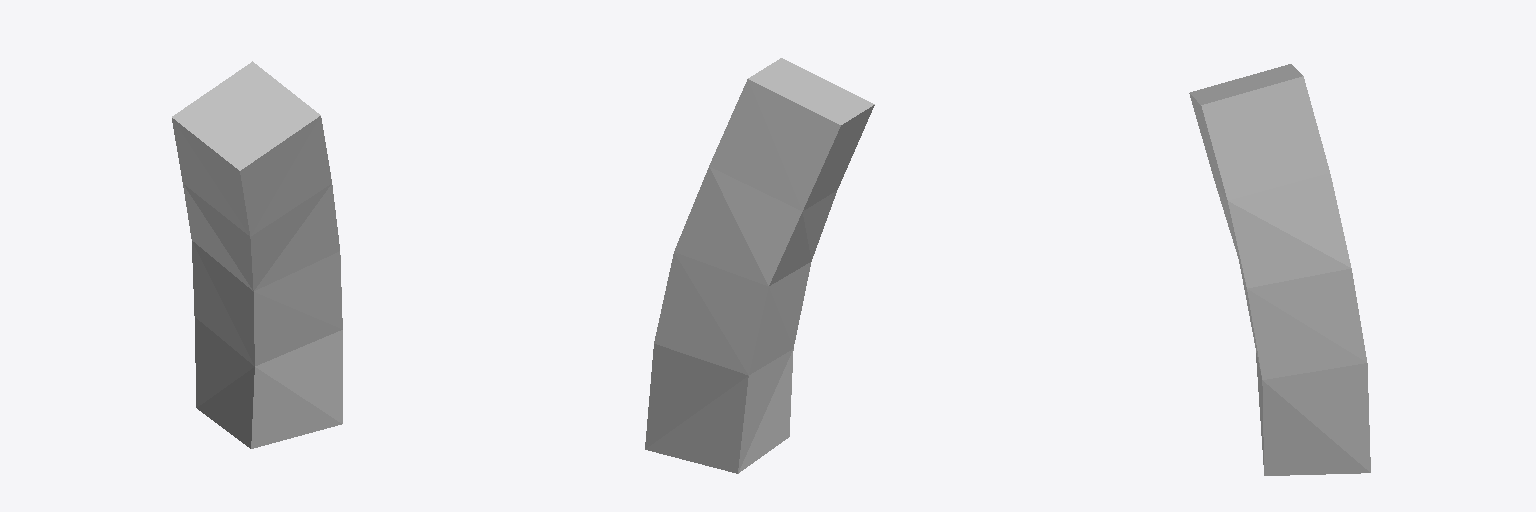
File: wiggle_000008.obj
3 views of the same model, side by side, from view 1: azimuth 30°, elevation 25°; view 2: azimuth 150°, elevation 25°; view 3: azimuth 270°, elevation 25° (orthographic).
Visible parts, largest first — view 1: Cube; view 2: Cube; view 3: Cube.
Part boxes in pixels (x1,y1,x2,y2): Cube: (172,61,342,448); Cube: (645,58,874,473); Cube: (1189,64,1370,475).
Size of the model in its own units: 3.41 by 7.6 by 3.41.